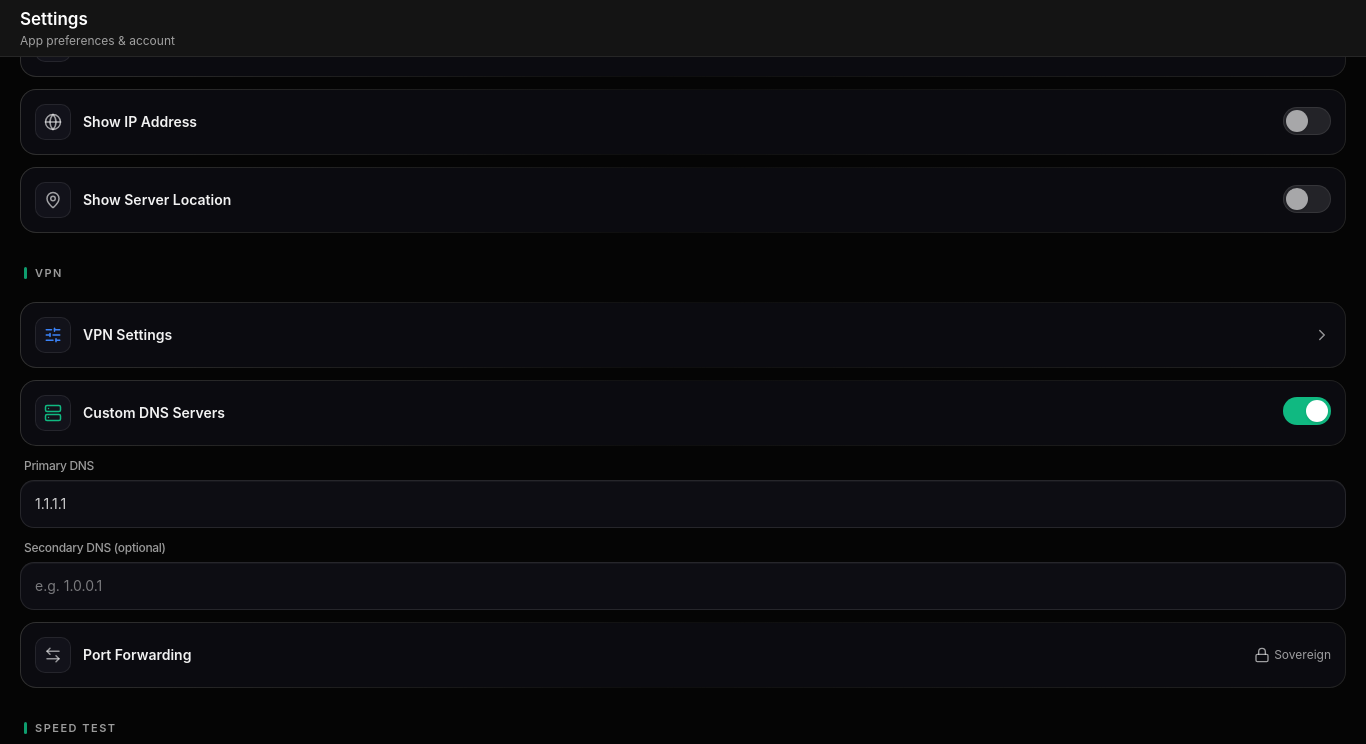
Custom DNS: draft fields, saved on leave › the switch turns Custom DNS off WITHOUT losing the addresses (P1-parity-042)
The width and height of the screenshot is (1366, 744).
(page scrolled)
Click the switch labelled "Custom DNS Servers" at (53, 412), box [21,380,1345,444]
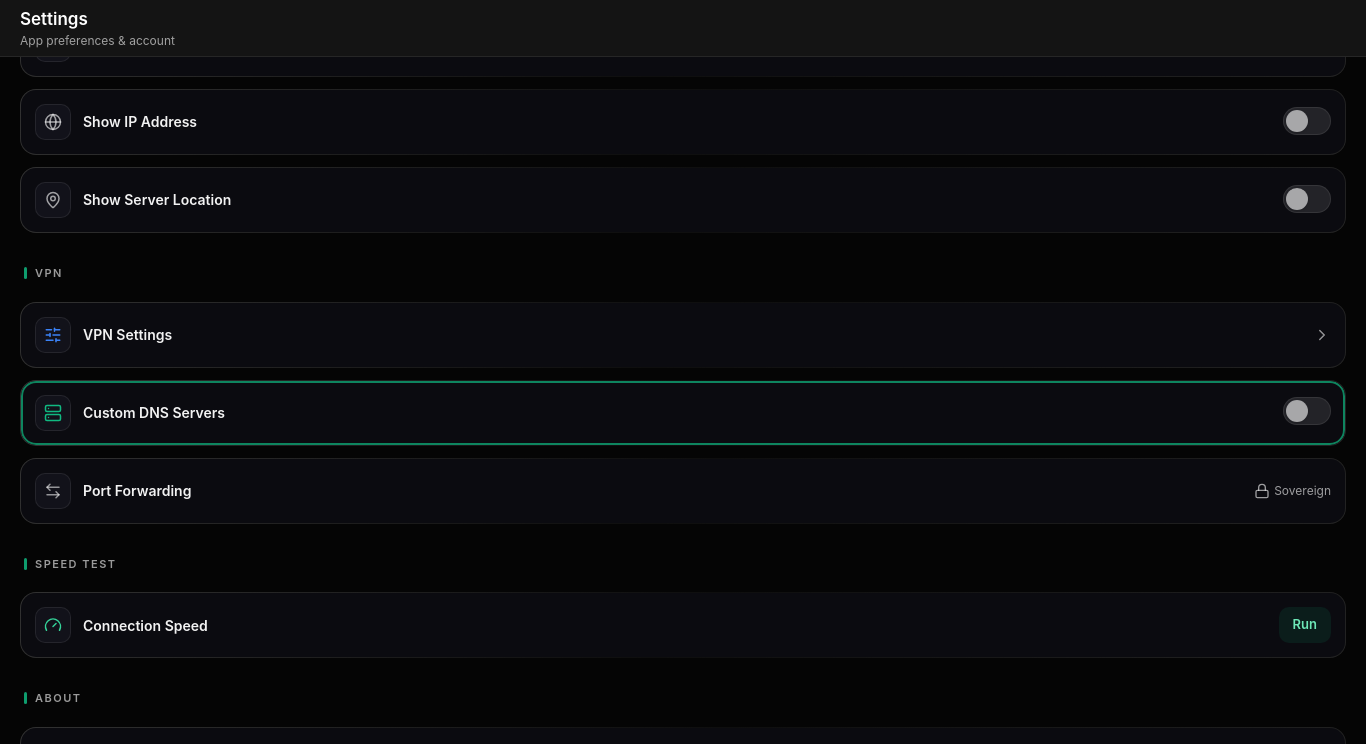
Now the label "Primary DNS" is gone
Click the switch labelled "Custom DNS Servers" at (53, 412), box [21,380,1345,444]
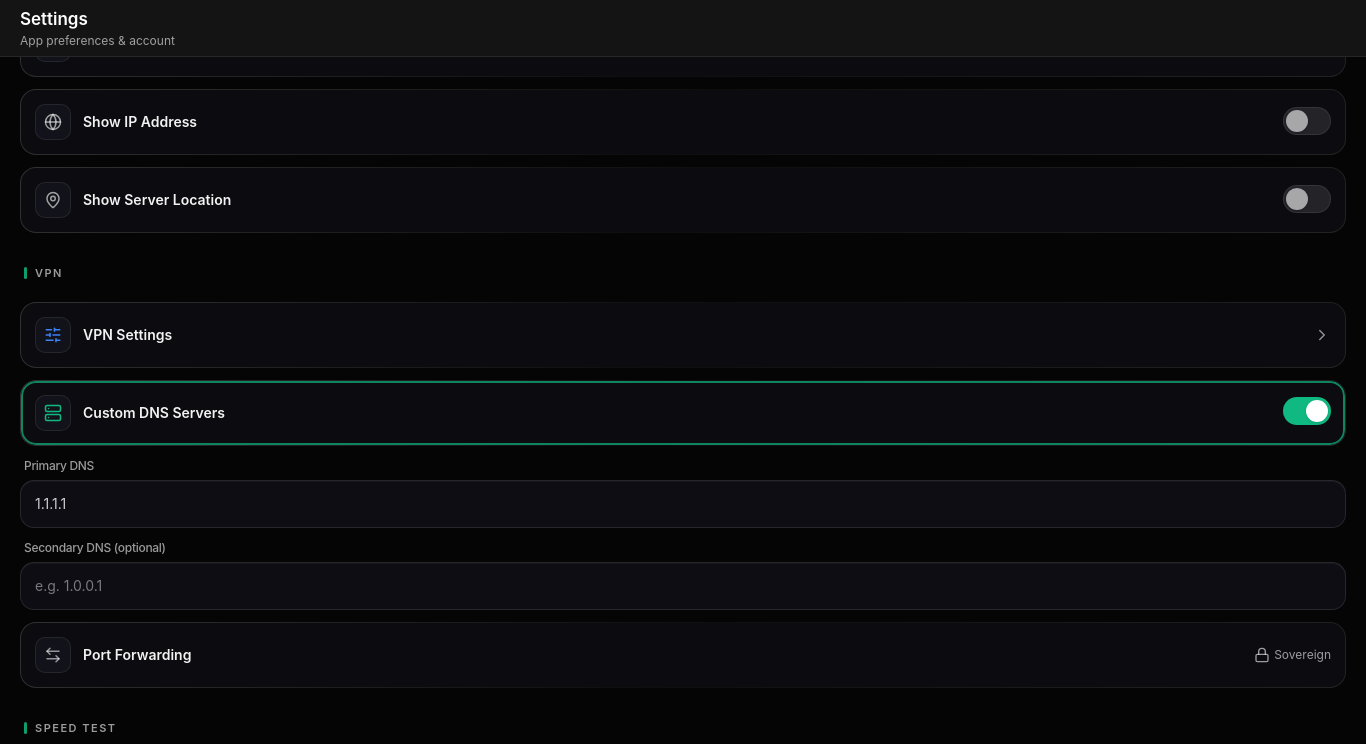
Now the field labelled "Primary DNS" holds "1.1.1.1", box [35,494,1331,514]
